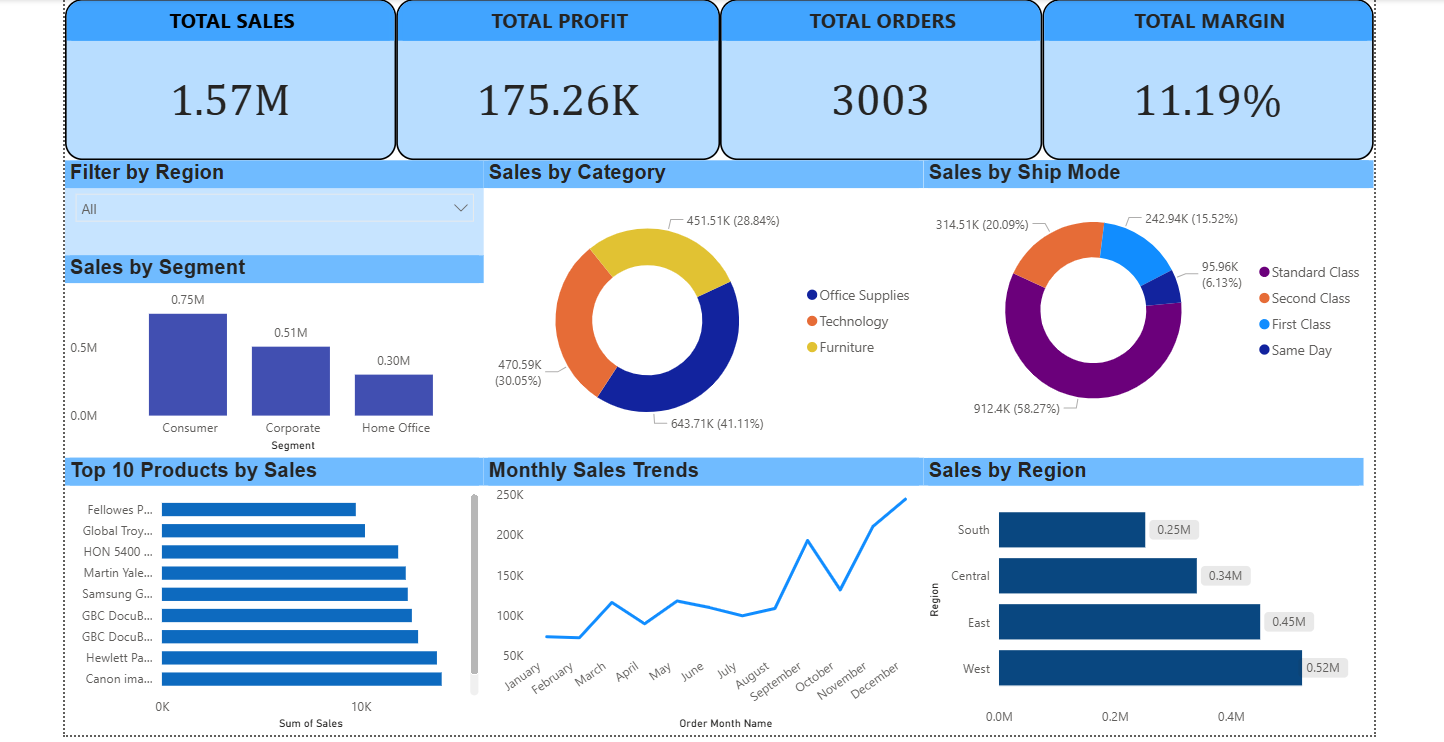

What the dashboard file says about the page in this screenshot:
{"tool":"powerbi","page":{"name":"Page 1","canvas":[1280,720],"ordinal":0},"visuals":[{"type":"card","title":"TOTAL SALES","fields":{"Values":["superstore_cleaned.Total Sales"]},"box":[0,0,324.1,157.7],"z":0},{"type":"card","title":"TOTAL PROFIT","fields":{"Values":["superstore_cleaned.Total Profit"]},"box":[324.1,0,316.7,157.7],"z":1000},{"type":"card","title":"TOTAL ORDERS","fields":{"Values":["superstore_cleaned.Total Products"]},"box":[640.8,0,315.5,157.7],"z":2000},{"type":"card","title":"TOTAL MARGIN","fields":{"Values":["superstore_cleaned.Total Margin"]},"box":[956.3,0,324.1,157.7],"z":3000},{"type":"clusteredBarChart","title":"Sales by Region","fields":{"Category":["superstore_cleaned.Region"],"Y":["Sum(superstore_cleaned.Sales)"]},"box":[840.1,448.8,430.4,271.5],"z":3001},{"type":"donutChart","title":"Sales by Category","fields":{"Category":["superstore_cleaned.Category"],"Y":["Sum(superstore_cleaned.Sales)"]},"box":[409.6,157.7,430.4,291],"z":3002},{"type":"lineChart","title":"Monthly Sales Trends","fields":{"Y":["Sum(superstore_cleaned.Sales)"],"Category":["superstore_cleaned.Order Month Name"]},"box":[409.6,448.8,430.4,271.5],"z":3003},{"type":"clusteredBarChart","title":"Top 10 Products by Sales","fields":{"Category":["superstore_cleaned.Product Name"],"Y":["Sum(superstore_cleaned.Sales)"]},"box":[0,448.8,409.6,271.5],"z":3004},{"type":"clusteredColumnChart","title":"Sales by Segment","fields":{"Category":["superstore_cleaned.Segment"],"Y":["Sum(superstore_cleaned.Sales)"]},"box":[0,250.7,409.6,196.9],"z":3005},{"type":"slicer","title":"Filter by Region","fields":{"Values":["superstore_cleaned.Region"]},"box":[0,157.7,409.6,92.9],"z":3006},{"type":"donutChart","title":"Sales by Ship Mode","fields":{"Category":["superstore_cleaned.Ship Mode"],"Y":["Sum(superstore_cleaned.Sales)"]},"box":[840.1,157.7,440.2,271.5],"z":3007}]}

Visuals, with their boxes on the page's 1280x720 design canvas (x1, y1, x2, y2). These are canvas units, not pixel positions in the 1444x742 screenshot, which may show the page scaled, cropped or inside an application window:
"TOTAL SALES" card: bbox(0, 0, 324, 158)
"TOTAL PROFIT" card: bbox(324, 0, 641, 158)
"TOTAL ORDERS" card: bbox(641, 0, 956, 158)
"TOTAL MARGIN" card: bbox(956, 0, 1280, 158)
"Sales by Region" clusteredBarChart: bbox(840, 449, 1270, 720)
"Sales by Category" donutChart: bbox(410, 158, 840, 449)
"Monthly Sales Trends" lineChart: bbox(410, 449, 840, 720)
"Top 10 Products by Sales" clusteredBarChart: bbox(0, 449, 410, 720)
"Sales by Segment" clusteredColumnChart: bbox(0, 251, 410, 448)
"Filter by Region" slicer: bbox(0, 158, 410, 251)
"Sales by Ship Mode" donutChart: bbox(840, 158, 1280, 429)
